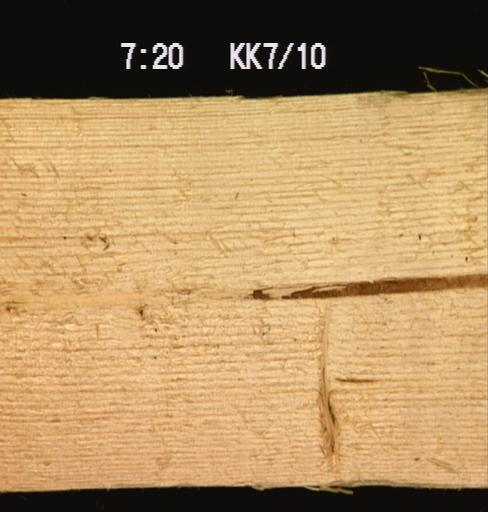small_knot: (121, 292, 159, 322), (0, 292, 35, 324)
